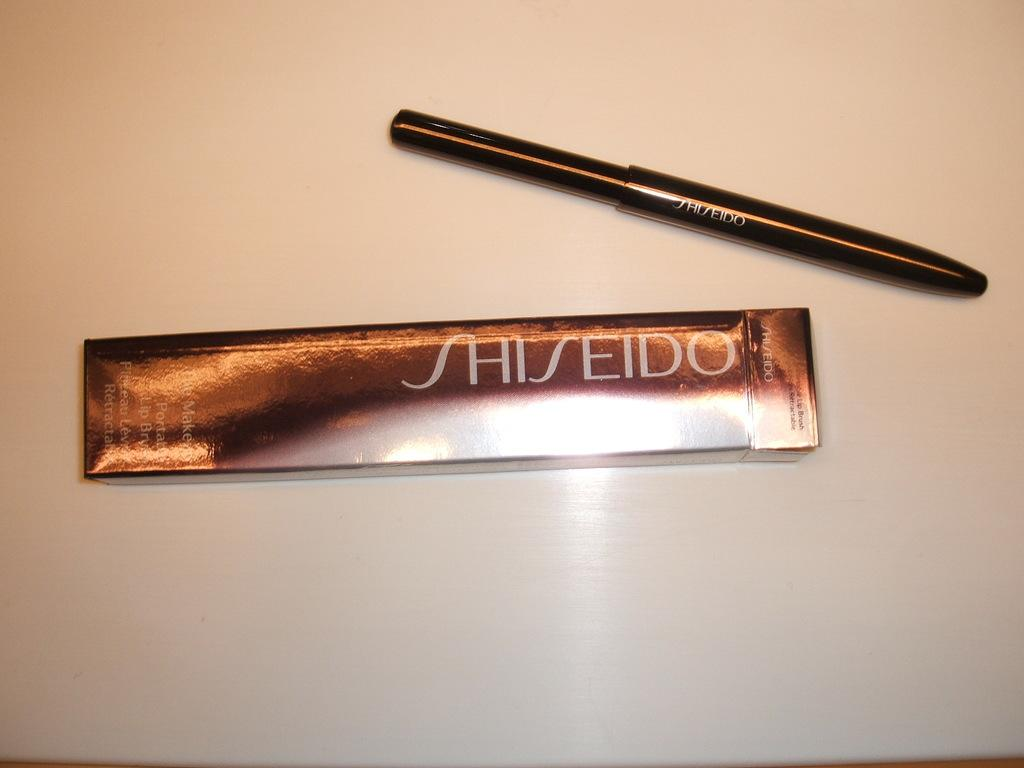pen: (392, 109, 990, 296)
